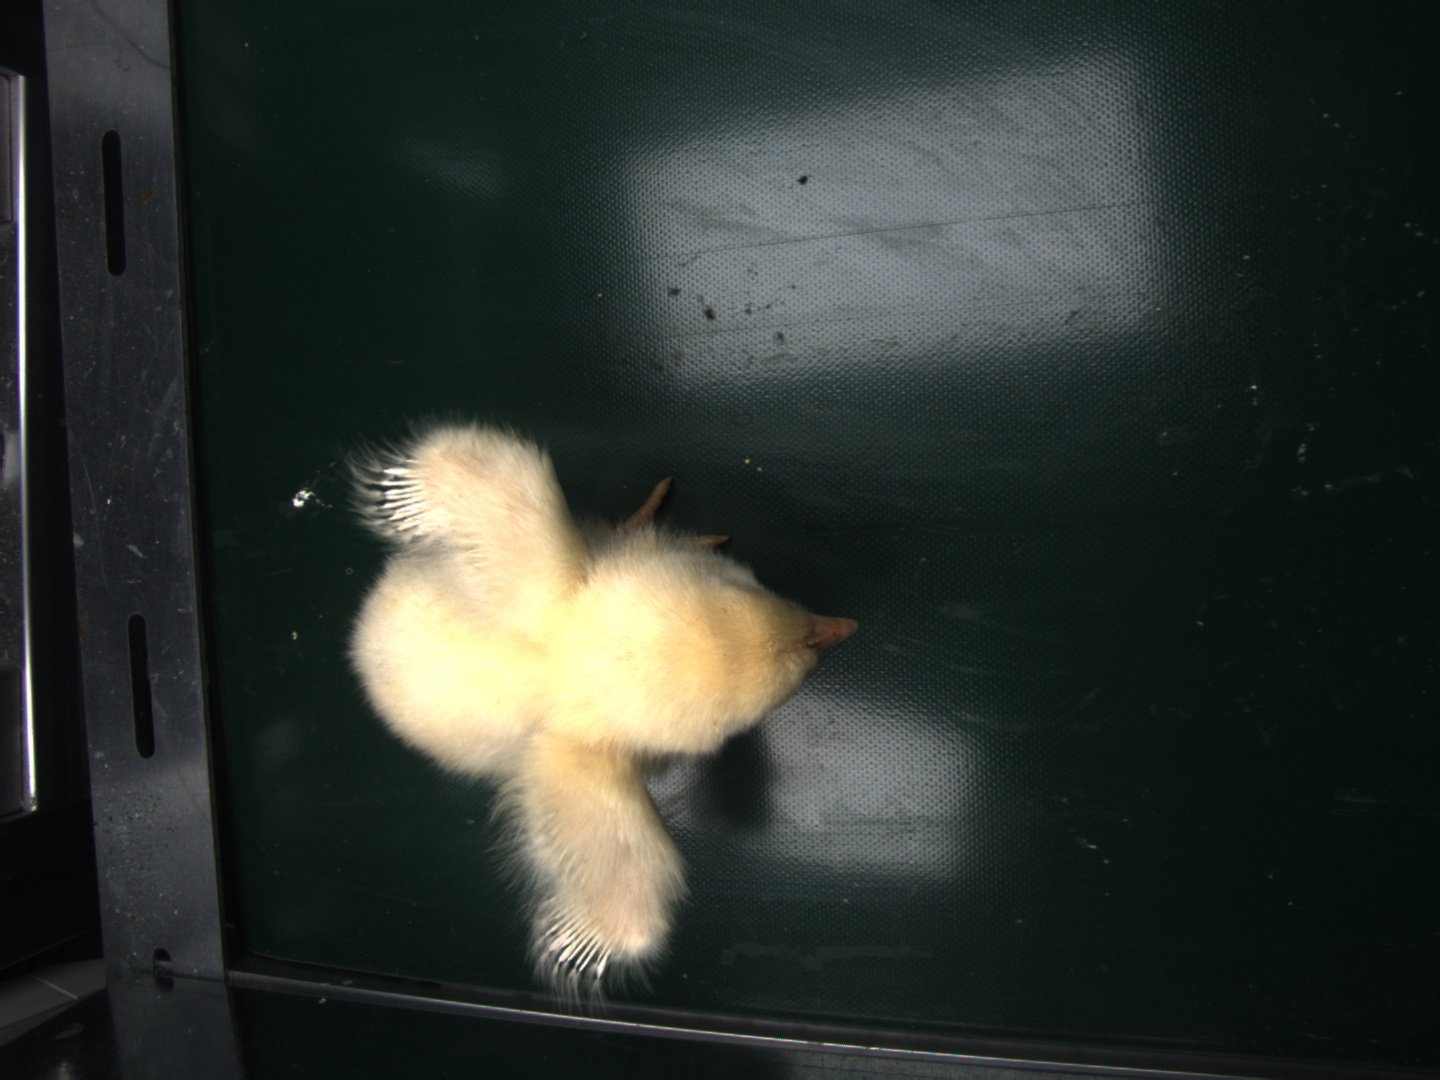male: (544, 909, 617, 982)
